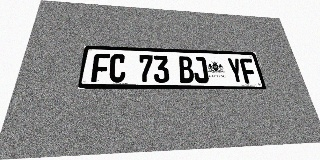3: (153, 55, 169, 83)
7: (138, 55, 154, 83)
B: (178, 56, 195, 83)
C: (108, 54, 126, 82)
F: (91, 53, 110, 82), (239, 58, 258, 84)
J: (192, 57, 209, 83)
Y: (226, 58, 245, 83)
